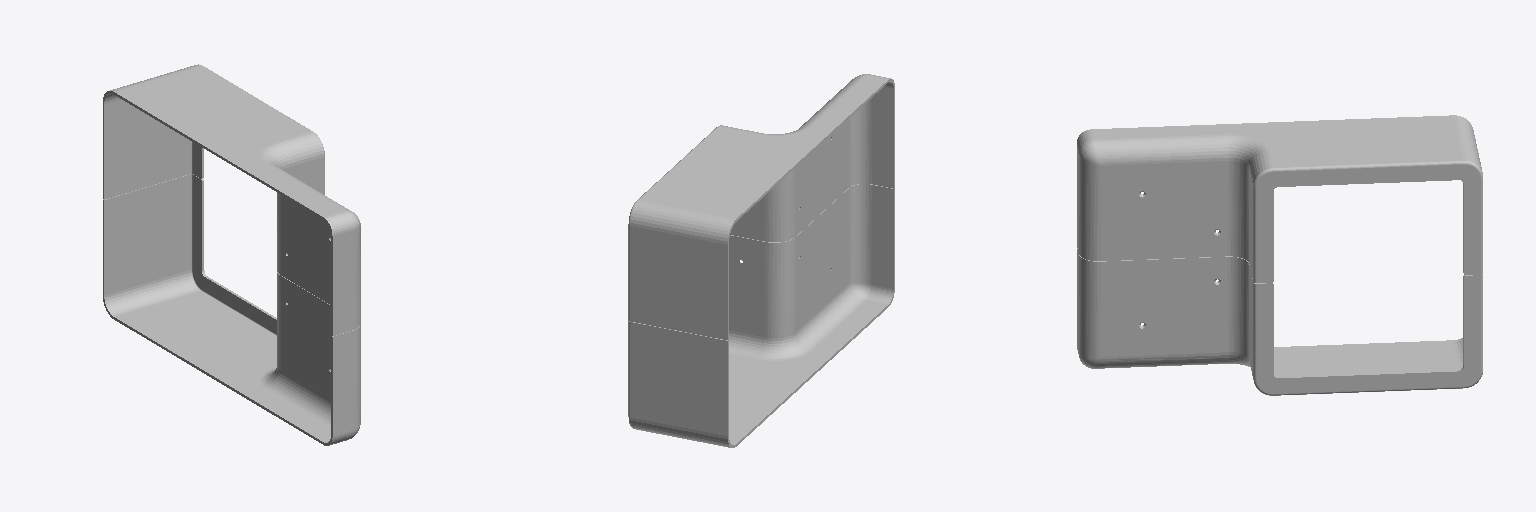
The model's file is torso_fix.obj.
3 views of the same model, side by side, from view 1: azimuth 30°, elevation 25°; view 2: azimuth 150°, elevation 25°; view 3: azimuth 270°, elevation 25° (orthographic).
Visible parts, largest first — view 1: torso_fix; view 2: torso_fix; view 3: torso_fix.
Part boxes in pixels (x1,y1,x2,y2): torso_fix: (103,64,360,445); torso_fix: (628,74,894,447); torso_fix: (1077,115,1482,395).
Bounding box in the file's own units: 0.1302 × 0.25 × 0.4051.